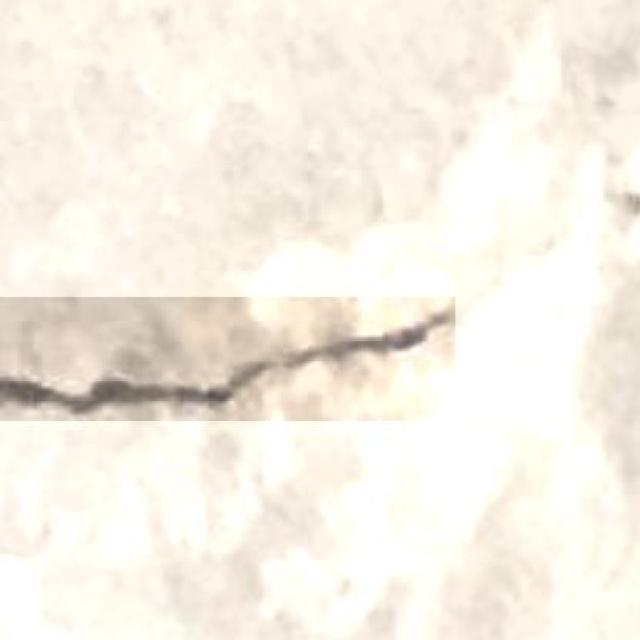Crack: (0, 290, 468, 431)
